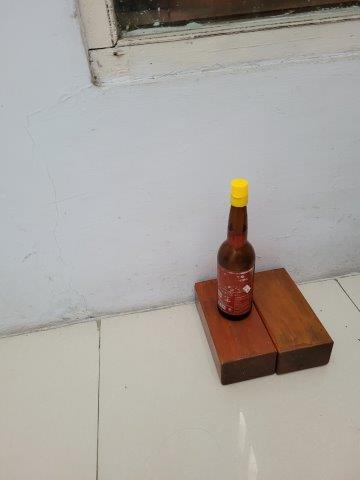botolkaca: (217, 178, 256, 320)
